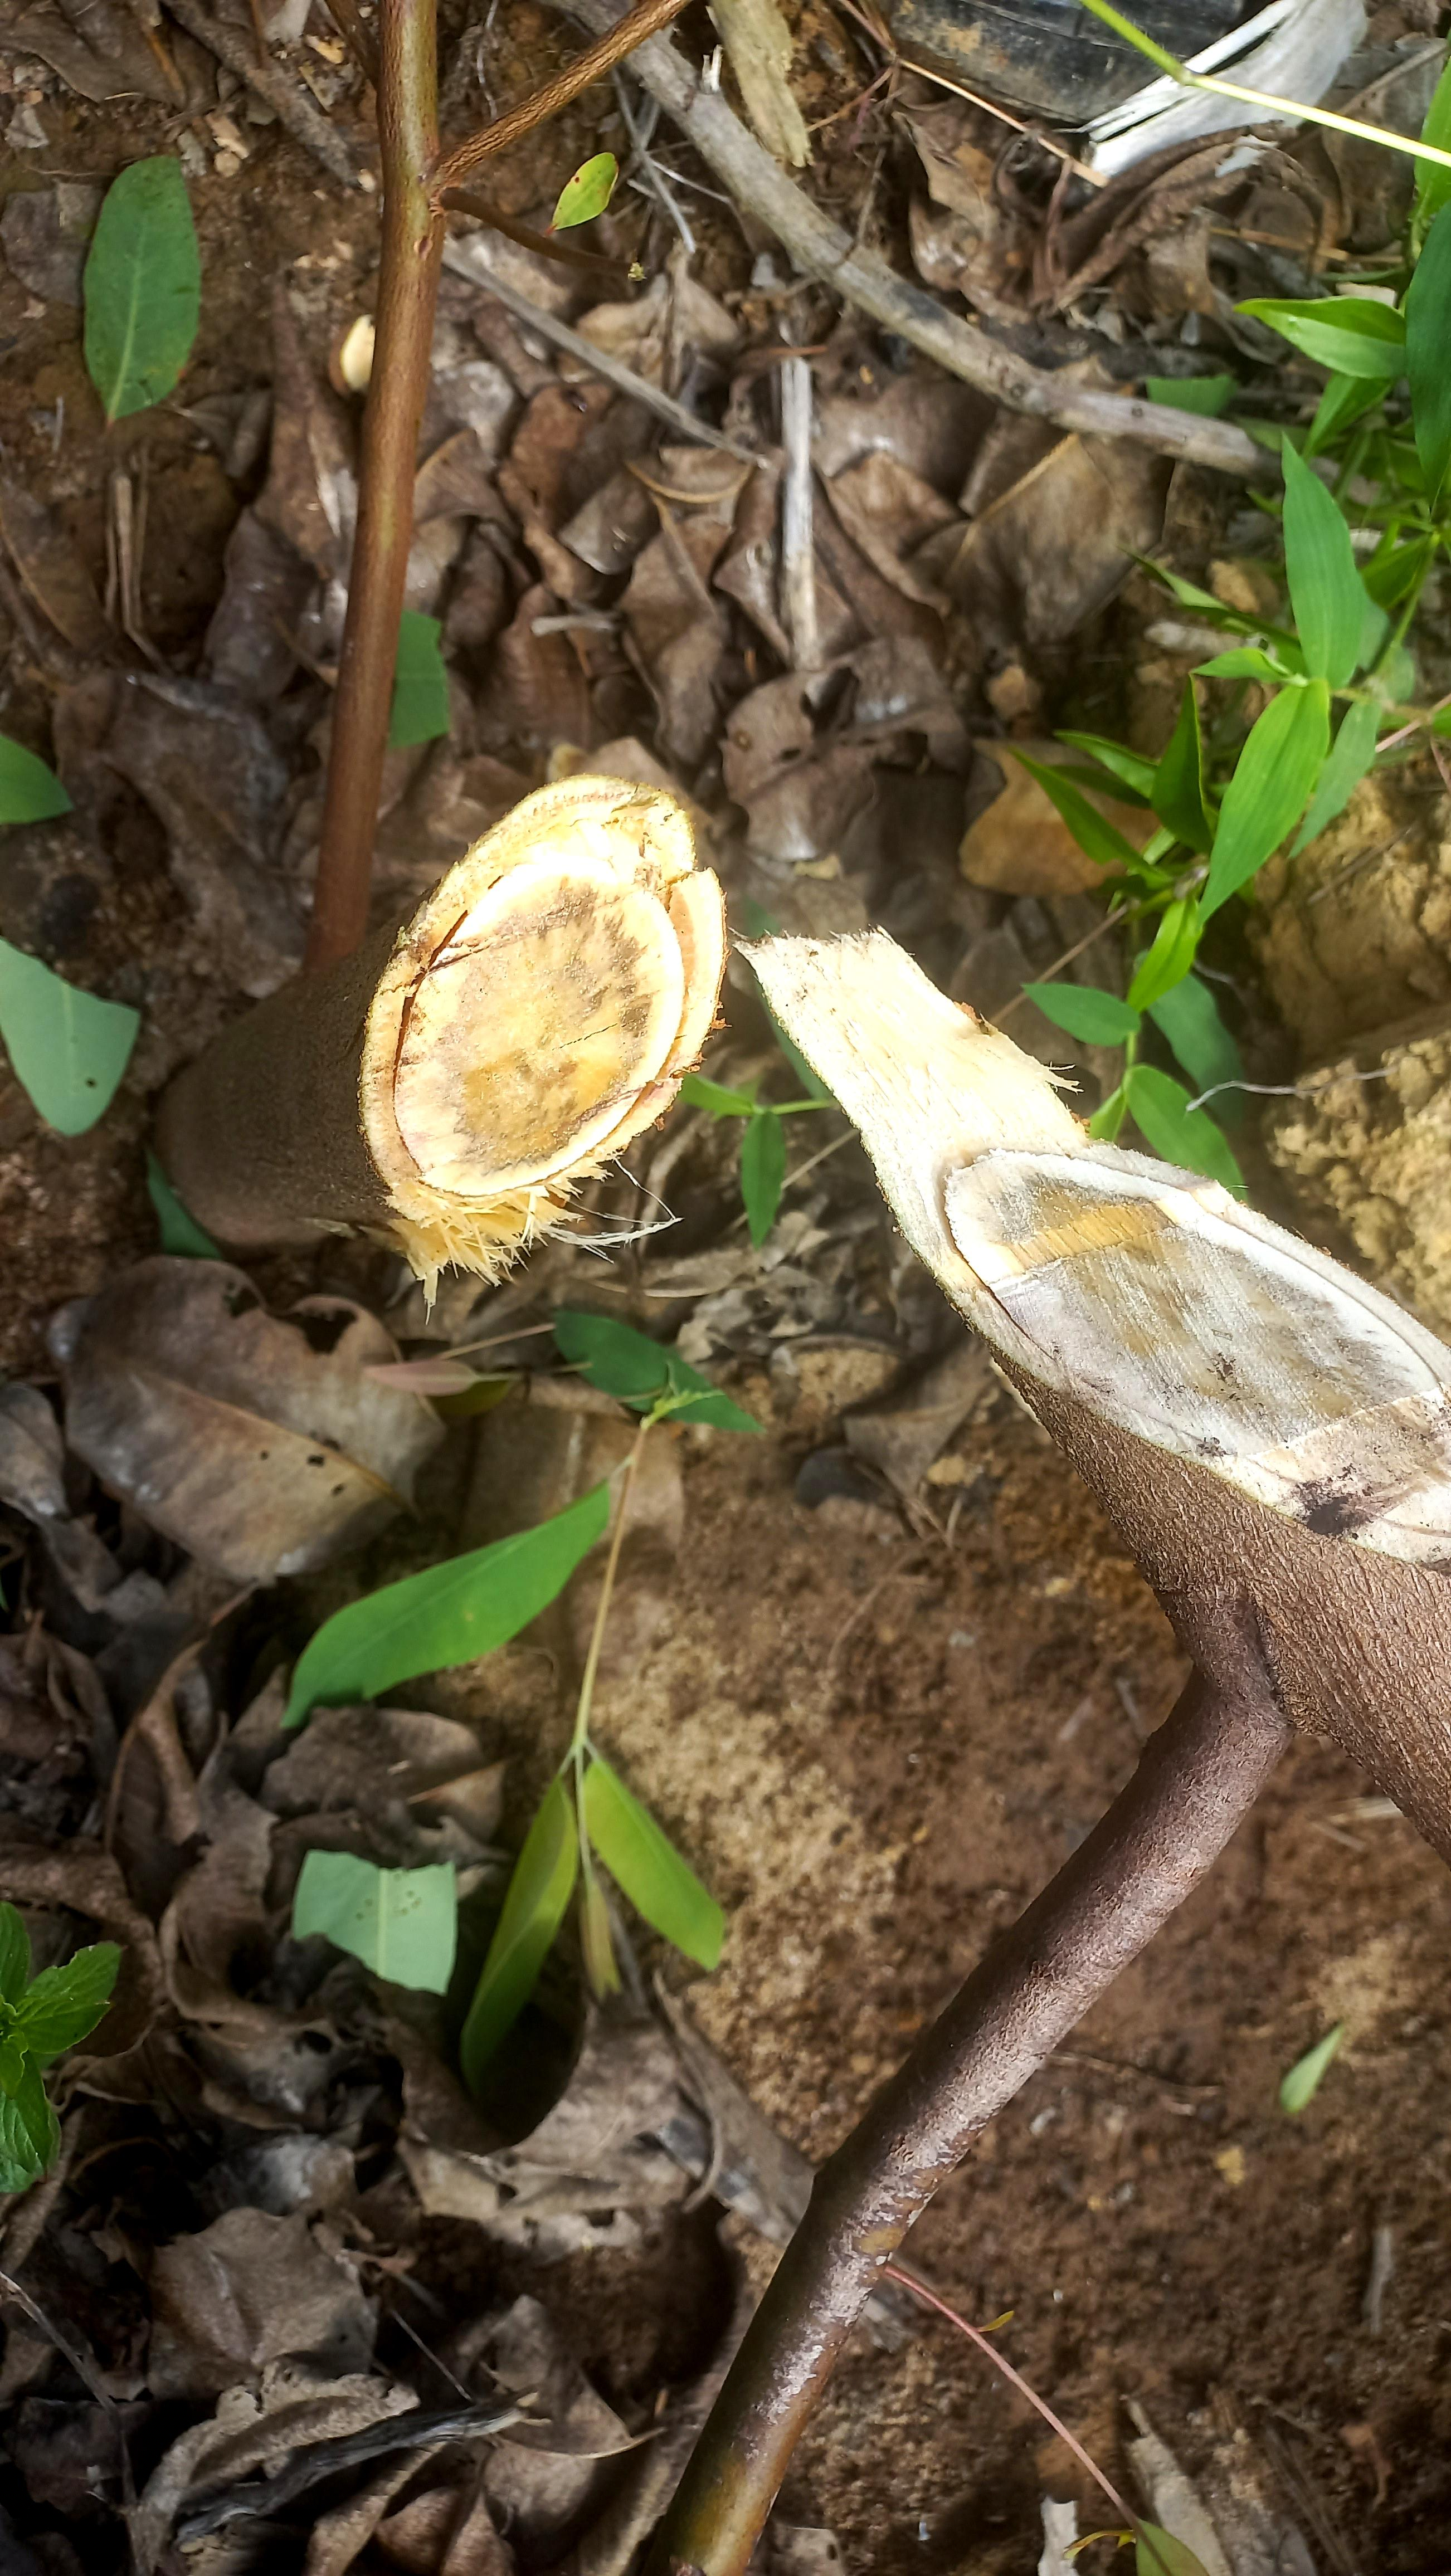Ralstonia: (980, 1182, 1451, 1522)
